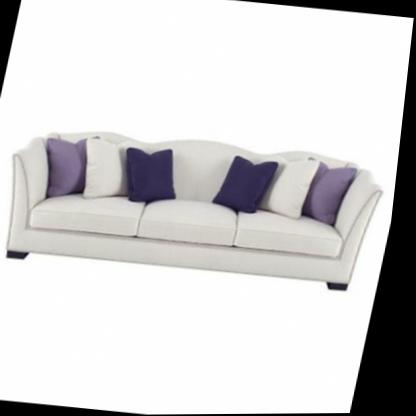Sofa: (0, 116, 397, 295)
